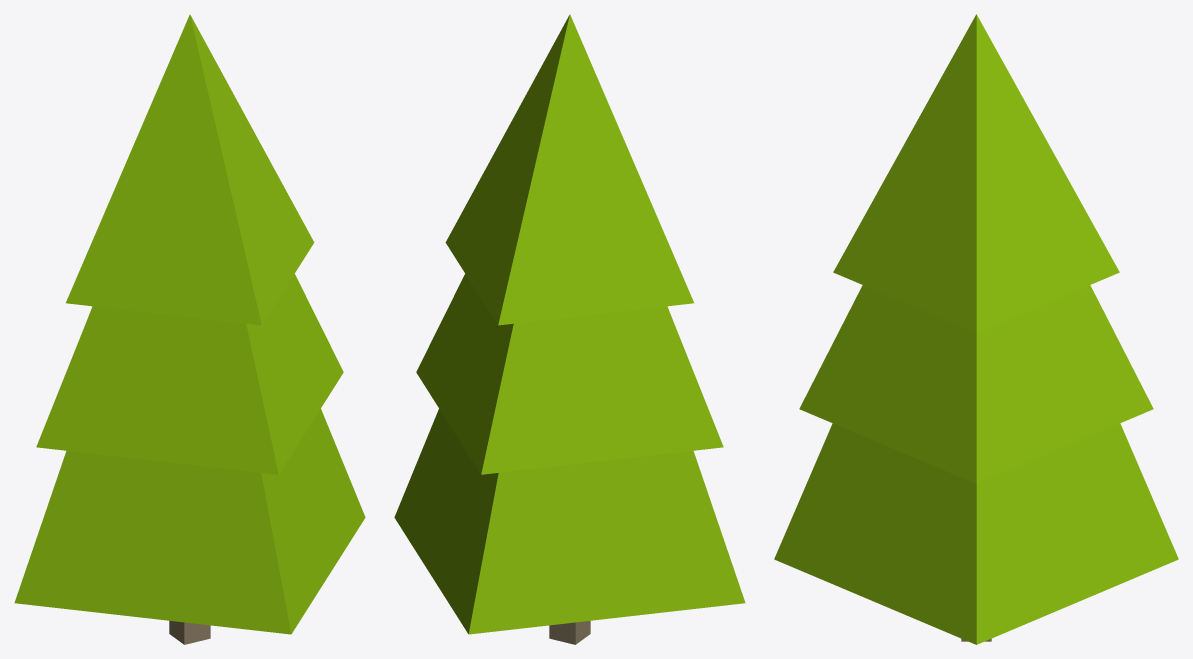
The model's file is pine_9.fbx.
3 renders of one model, left to right at view 1: azimuth 30°, elevation 25°; view 2: azimuth 150°, elevation 25°; view 3: azimuth 270°, elevation 25°, orthographic.
Parts seen in each view (by area): view 1: pine_9; view 2: pine_9; view 3: pine_9.
Boxes of the visible parts, left/top/right/bottom form: pine_9: left=14, top=14, right=365, bottom=644; pine_9: left=394, top=14, right=745, bottom=644; pine_9: left=774, top=14, right=1178, bottom=644.
Bounding box in the file's own units: 161 × 273 × 161.
